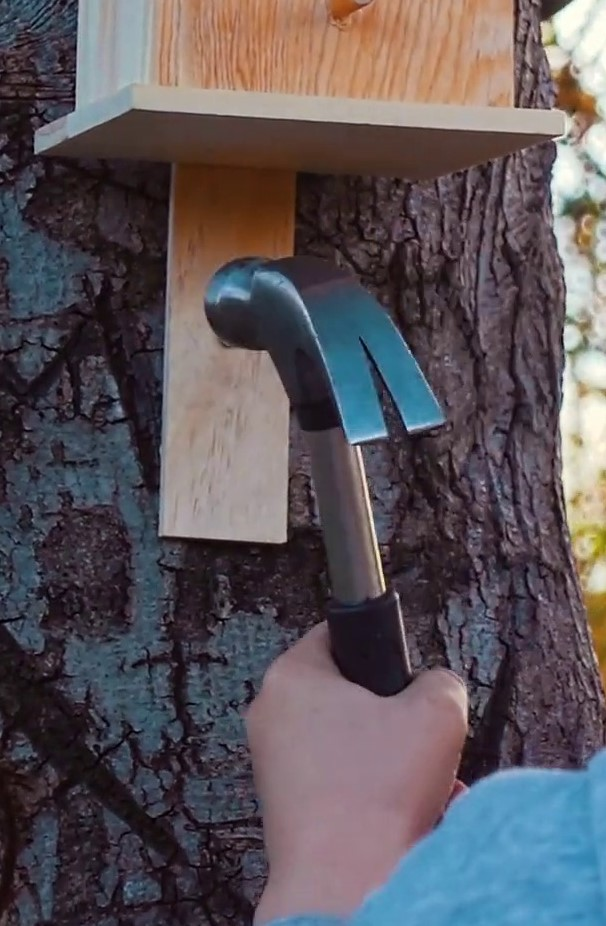hammer: (198, 248, 457, 813)
